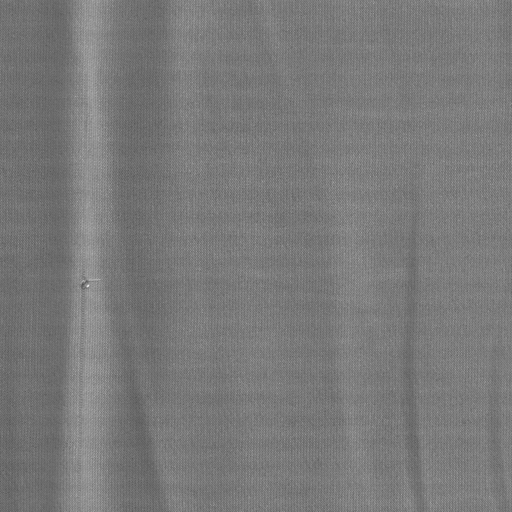defect: (75, 276, 87, 512)
